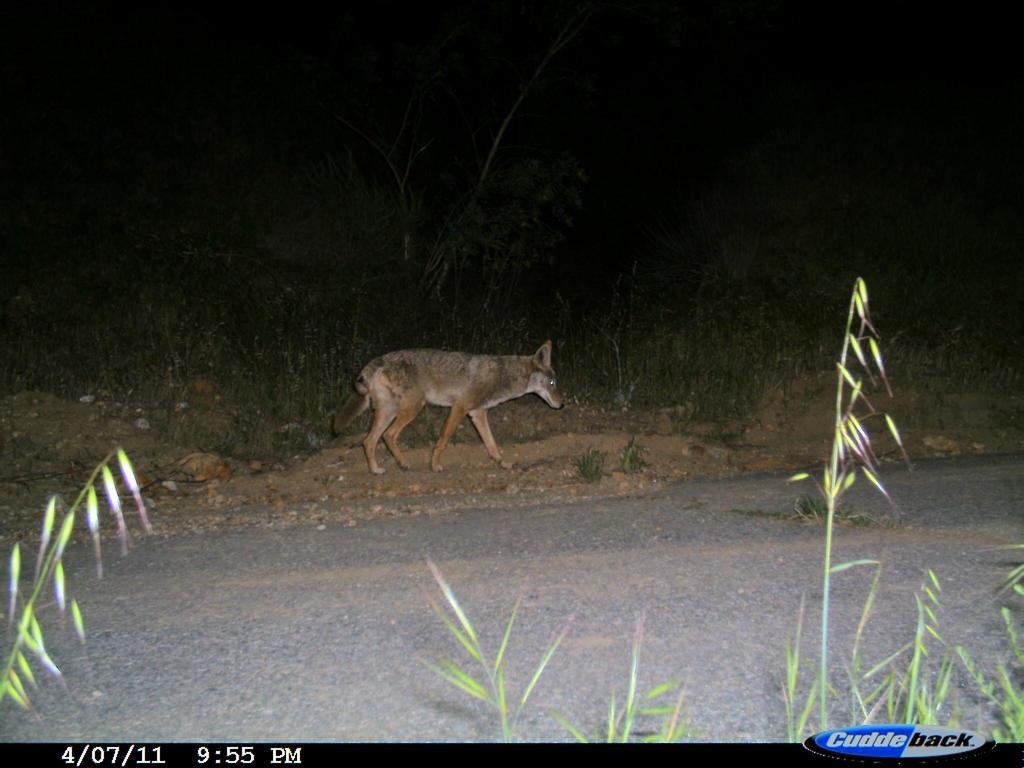coyote: (327, 332, 570, 482)
